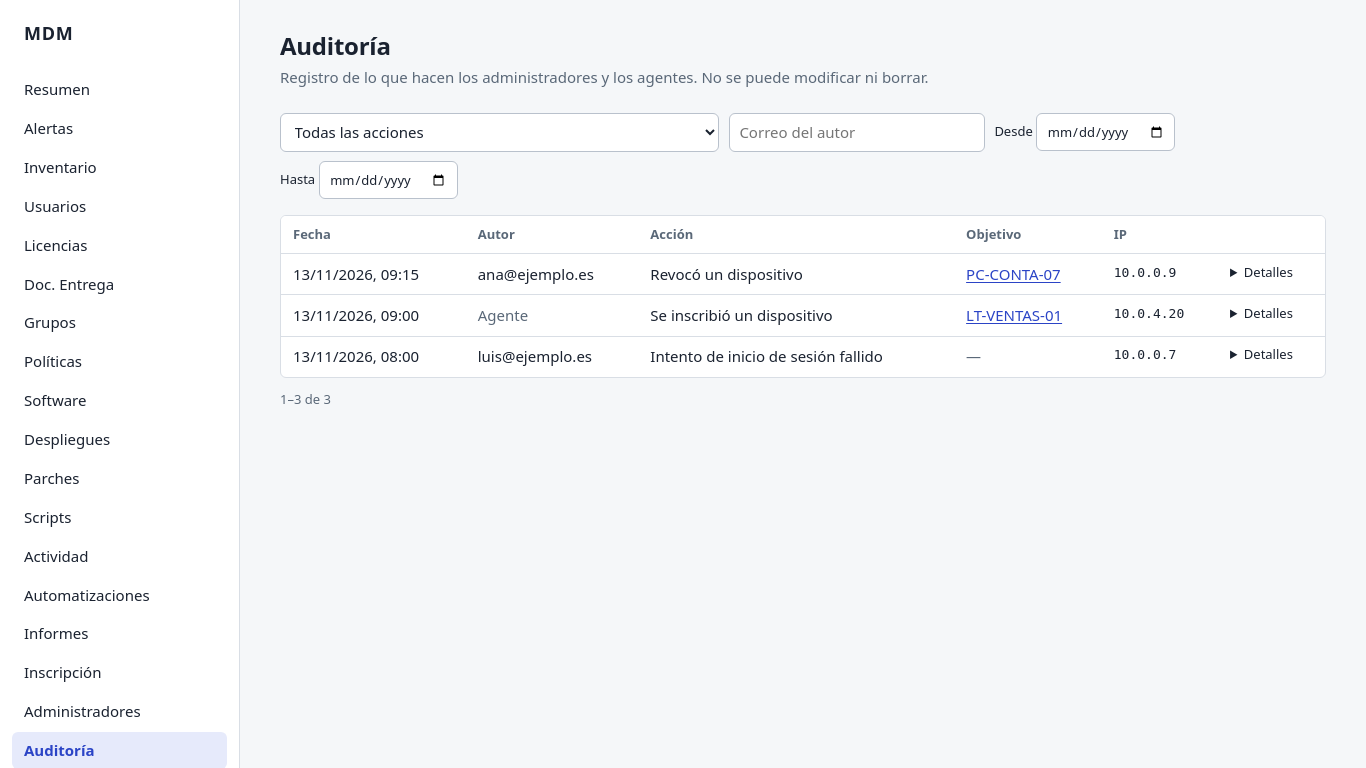
Test case: Auditoría › una fila se despliega para ver los detalles
Step 1. Click the heading "Detalles" in the row of "13/11/2026, 08:00" → x=1268, y=354, box x1=1244 y1=345 x2=1293 y2=363
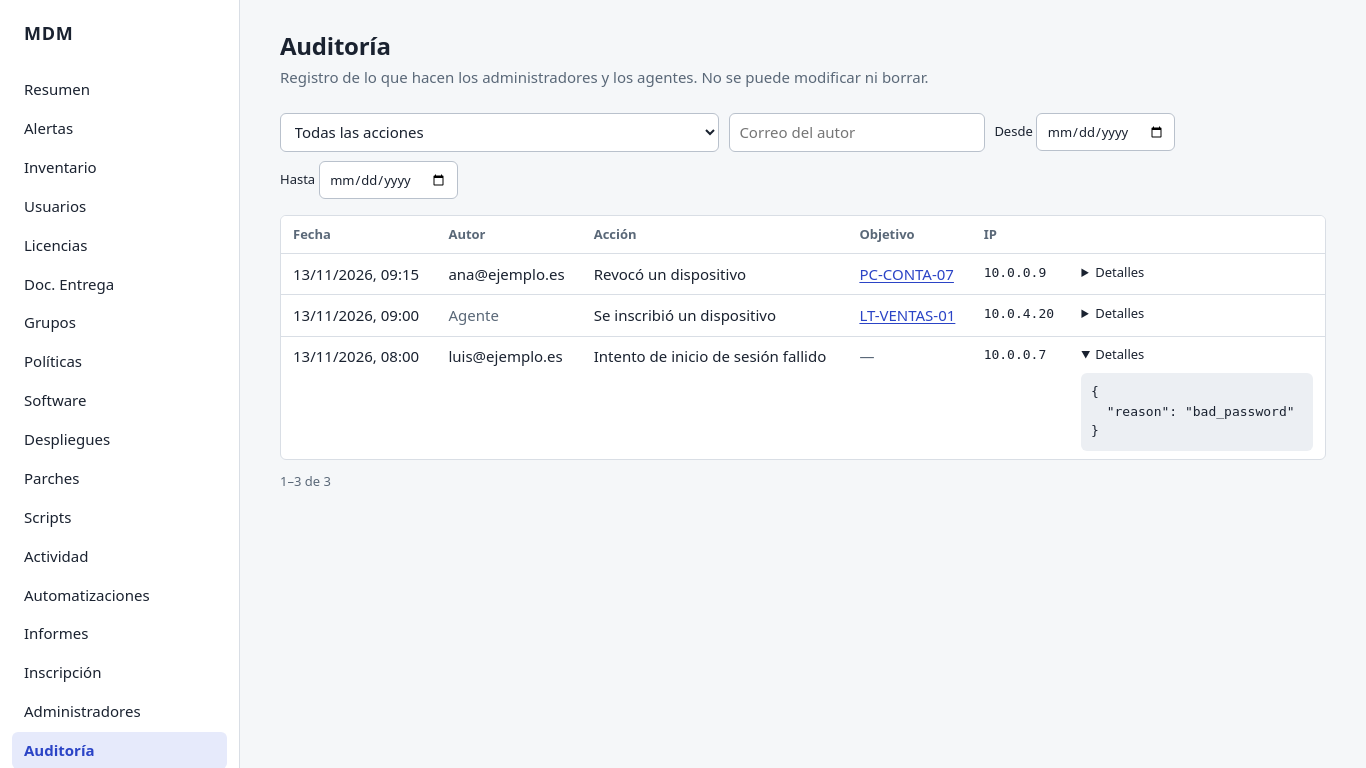
Check: the text "{ \"reason\": \"bad_password\" }" is shown, box x1=1082 y1=373 x2=1313 y2=450
